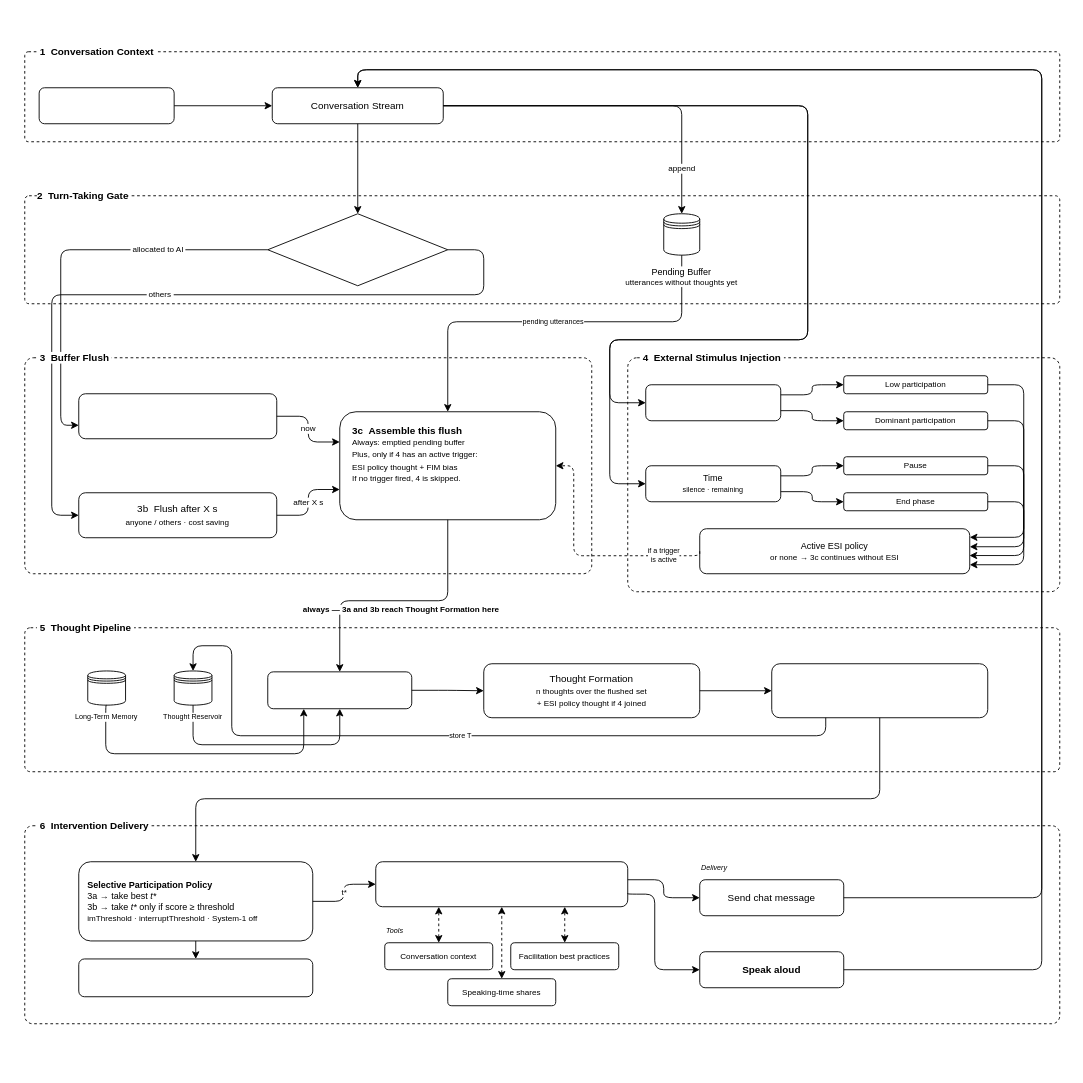
Some shapes in this 1083 by 1083 pixel diagram are drawn without their labels. The centre of each missing label's shape, as x and y in pixels:
"3a Flush now allocated to AI" belongs at point (177, 416).
"Context Retrieval" belongs at point (339, 690).
"Participants" belongs at point (106, 105).
"Remain silent" belongs at point (195, 977).
"Speaking-time share per participant" belongs at point (713, 402).
"Thought Evaluation FIM + critic FIM biased only if 4 joined" belongs at point (879, 690).
"Turn-Taking Type Prediction" belongs at point (357, 249).
"Utterance Formation Agent formulates t* into a facilitation act" belongs at point (501, 884).
